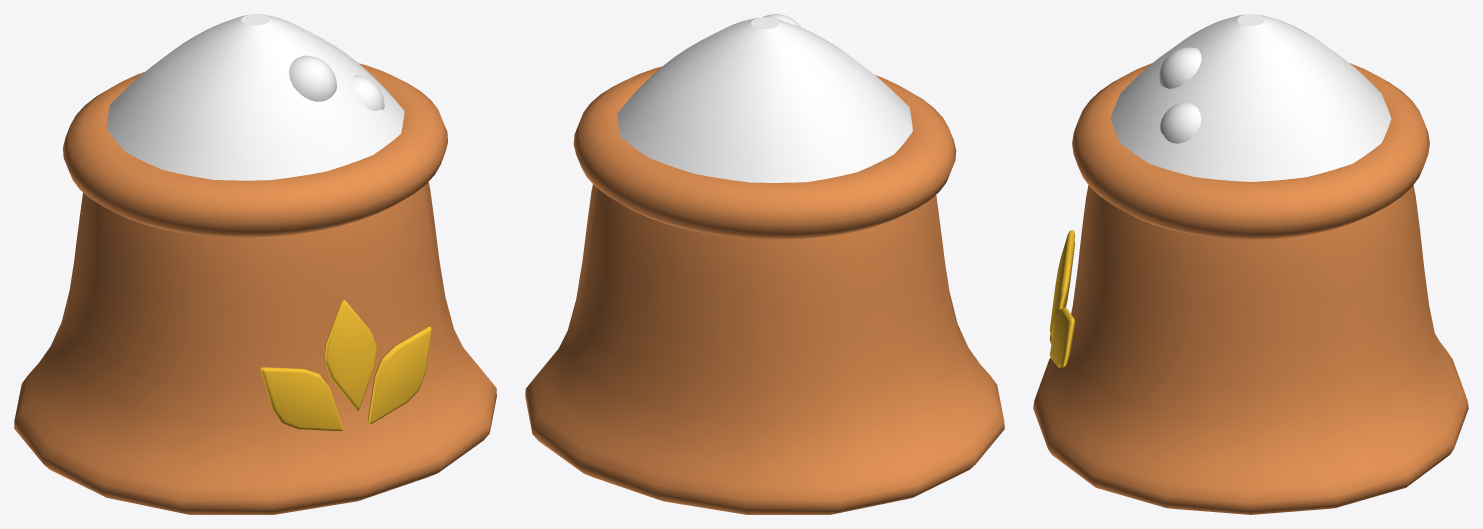
Rendered from maka.gltf.
The picture shows the model from 3 angles, left to right: view 1: azimuth 30°, elevation 25°; view 2: azimuth 150°, elevation 25°; view 3: azimuth 270°, elevation 25°; orthographic projection.
Parts seen in each view (by area): view 1: Cube, Torus, Plane.001, Plane, Sphere, Sphere.001; view 2: Cube, Torus; view 3: Cube, Torus, Sphere.001, Sphere, Plane.001, Plane.
Part boxes in pixels (left/top/right/bottom): Cube: left=14, top=14, right=496, bottom=514; Torus: left=63, top=63, right=447, bottom=237; Plane.001: left=260, top=326, right=431, bottom=431; Plane: left=324, top=299, right=376, bottom=410; Sphere: left=289, top=55, right=336, bottom=101; Sphere.001: left=353, top=75, right=384, bottom=110; Cube: left=525, top=17, right=1004, bottom=514; Torus: left=573, top=66, right=956, bottom=239; Cube: left=1033, top=14, right=1468, bottom=514; Torus: left=1072, top=63, right=1429, bottom=239; Sphere.001: left=1160, top=103, right=1201, bottom=143; Sphere: left=1159, top=47, right=1201, bottom=88; Plane.001: left=1049, top=241, right=1075, bottom=368; Plane: left=1049, top=230, right=1075, bottom=335.
Bounding box in the file's own units: 0.2157 × 0.2103 × 0.194.
